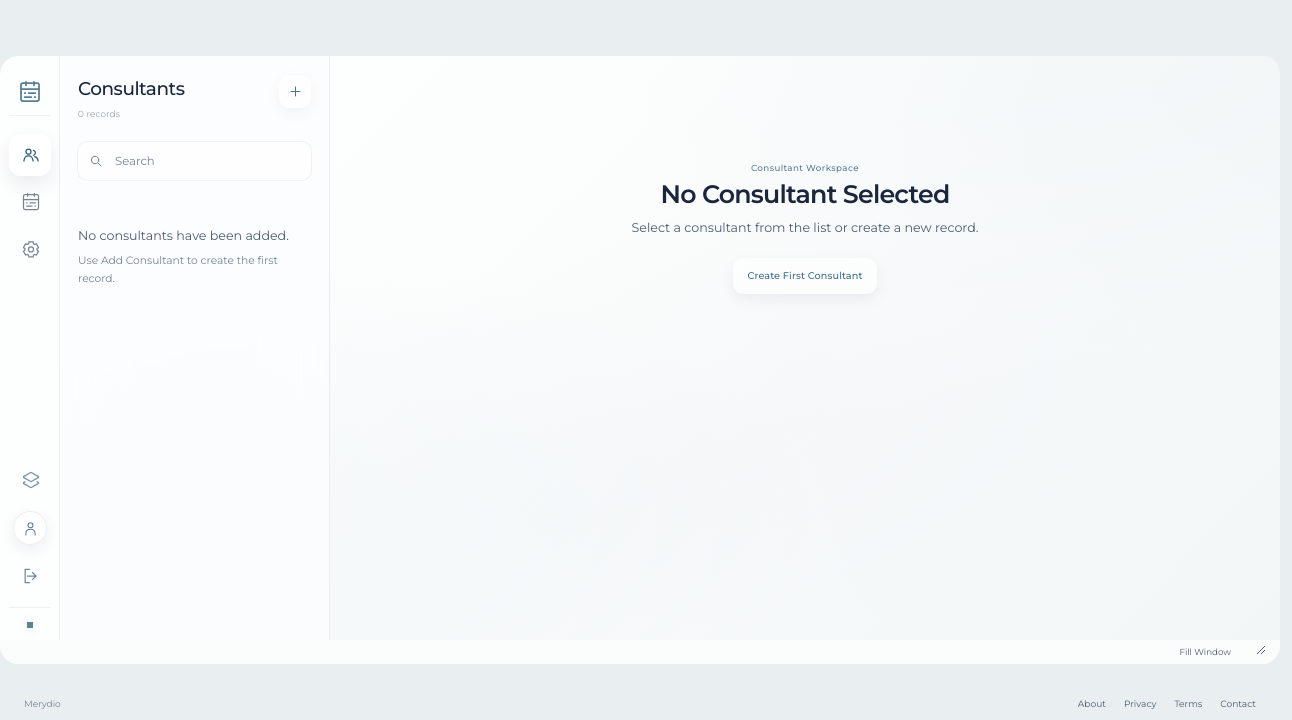
Scenario: email account authentication › sends the readable CSRF cookie on sign out and returns to sign in
The image size is (1292, 720).
Click the button named "Sign Out": {"x": 30, "y": 576} [9,555,51,597]
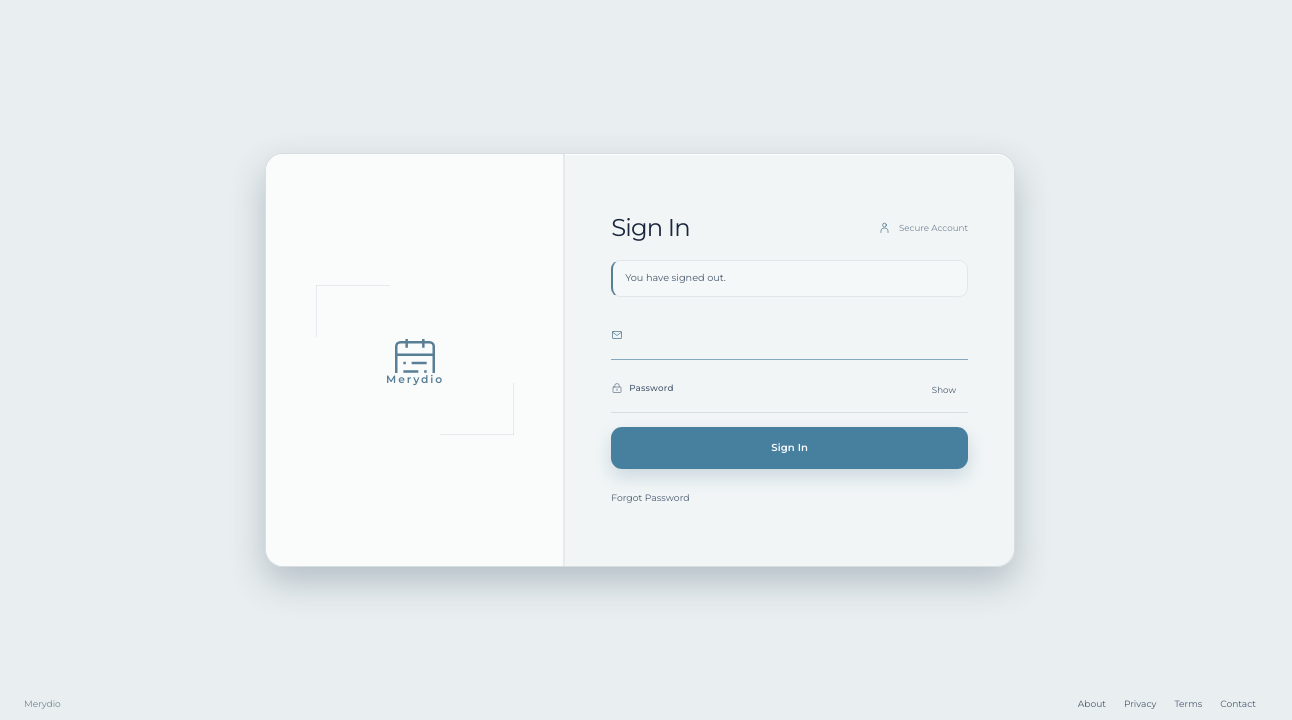
Now the heading "Sign In" is shown, box [611,212,690,242]
